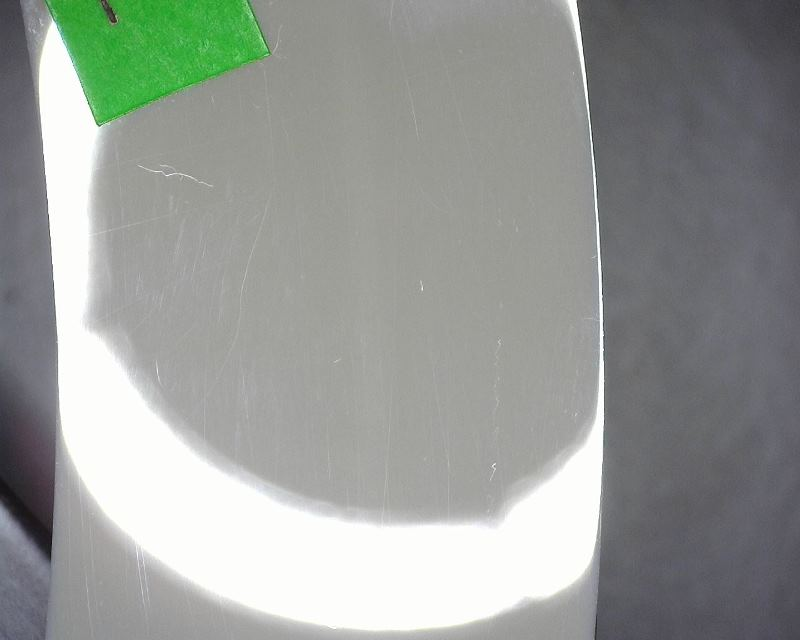scratch: (225, 187, 277, 383), (390, 16, 422, 139), (136, 158, 218, 190), (130, 547, 153, 620), (494, 335, 505, 435), (271, 22, 286, 56), (152, 358, 166, 384), (487, 463, 502, 480), (332, 354, 345, 367), (418, 276, 426, 293)
